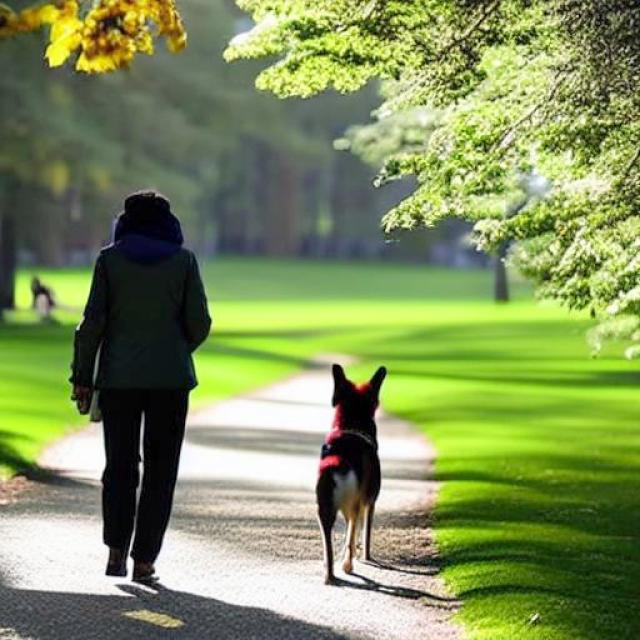Unleashed_Dog: (105, 362, 388, 586)
